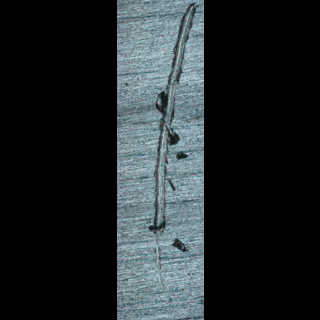d: (146, 1, 198, 311)
